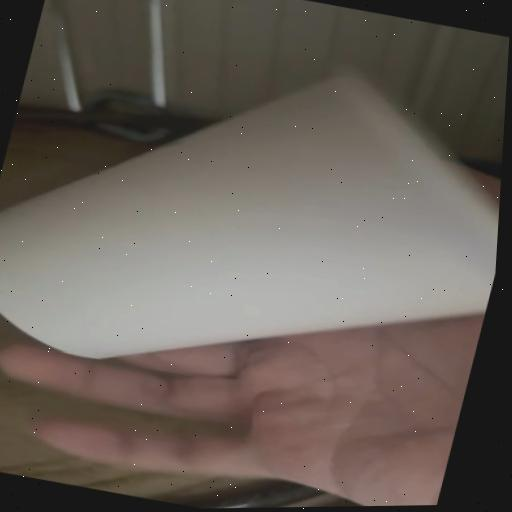Ly_giay: (0, 76, 499, 358)
